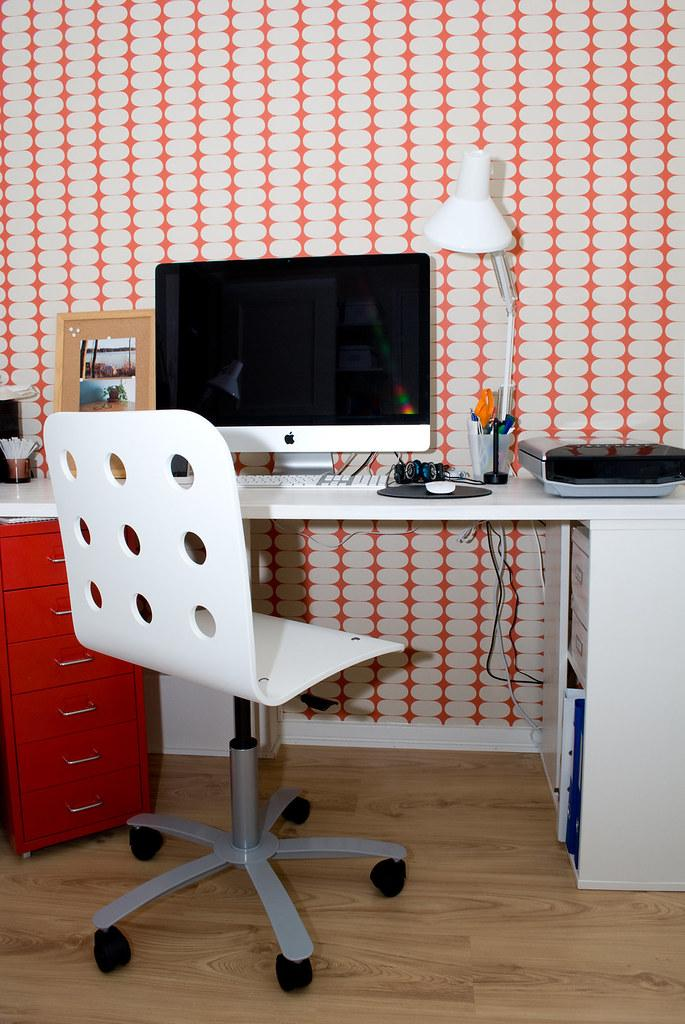computer: (155, 253, 433, 487)
